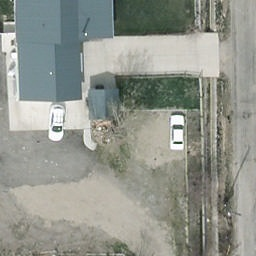car: (47, 106, 67, 145), (168, 113, 187, 154)
